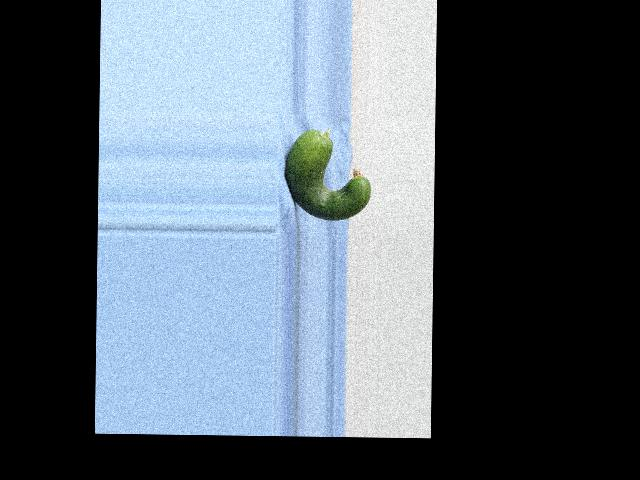cucumber: (284, 128, 371, 221)
